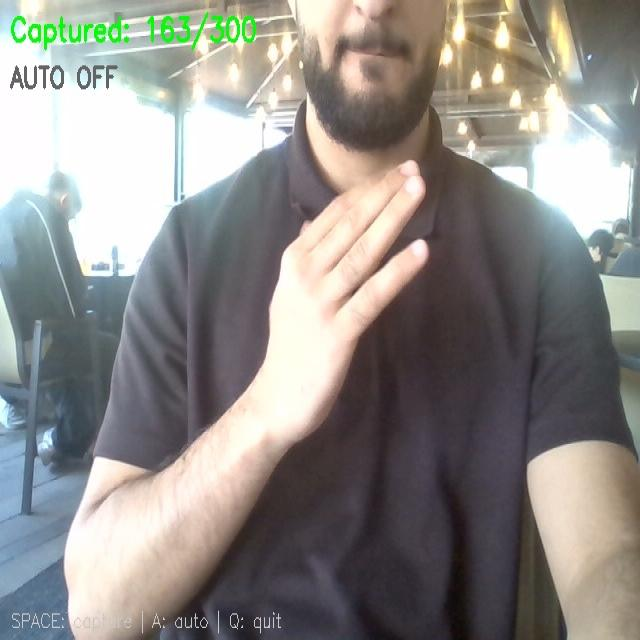Hand: (252, 162, 427, 445)
